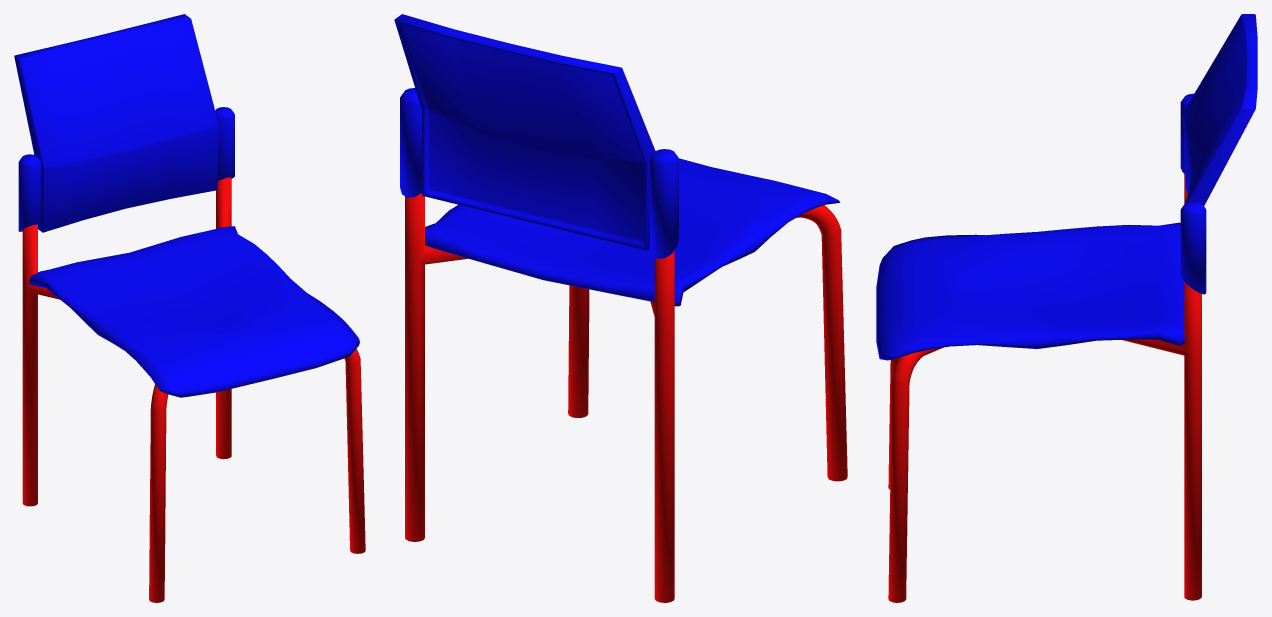
File: BlackHanzeChair.fbx
3 views of the same model, side by side, from view 1: azimuth 30°, elevation 25°; view 2: azimuth 150°, elevation 25°; view 3: azimuth 270°, elevation 25° (orthographic). The views are drawn at different scales.
Visible parts, largest first — view 1: Cube.002, NurbsPath.002; view 2: Cube.002, NurbsPath.002; view 3: Cube.002, NurbsPath.002.
Part boxes in pixels (left/top/right/bottom): Cube.002: left=14, top=14, right=359, bottom=397; NurbsPath.002: left=22, top=177, right=365, bottom=602; Cube.002: left=394, top=14, right=839, bottom=306; NurbsPath.002: left=405, top=193, right=847, bottom=602; Cube.002: left=876, top=14, right=1257, bottom=360; NurbsPath.002: left=888, top=174, right=1201, bottom=602.
Bounding box in the file's own units: 98.5 × 72.6 × 137.
